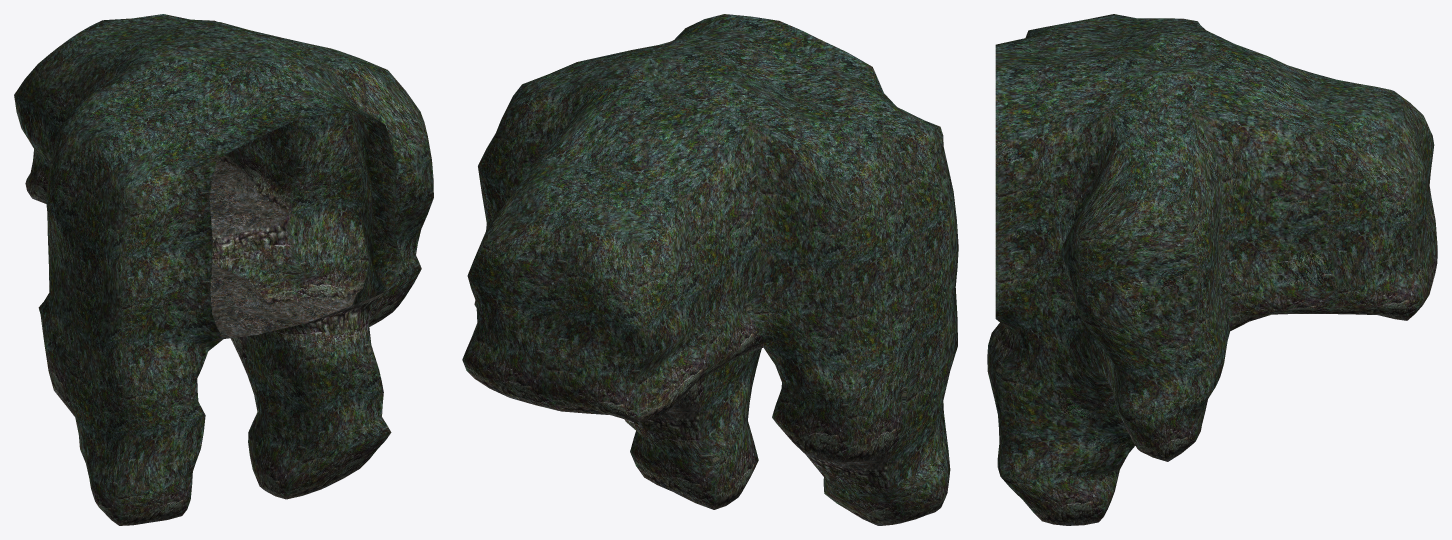
The model's file is thm_all_cave_s03_damprock_mirror_r29_mesh_29.fbx.
3 renders of one model, left to right at view 1: azimuth 30°, elevation 25°; view 2: azimuth 150°, elevation 25°; view 3: azimuth 270°, elevation 25°, orthographic. The views are drawn at different scales.
Parts seen in each view (by area): view 1: mesh_node; view 2: mesh_node; view 3: mesh_node.
Part boxes in pixels (box(x1,y1,x2,y2)): mesh_node: box(14, 14, 433, 525); mesh_node: box(462, 14, 958, 525); mesh_node: box(987, 14, 1437, 525).
Bounding box in the file's own units: 40.79 × 45.08 × 41.15.
